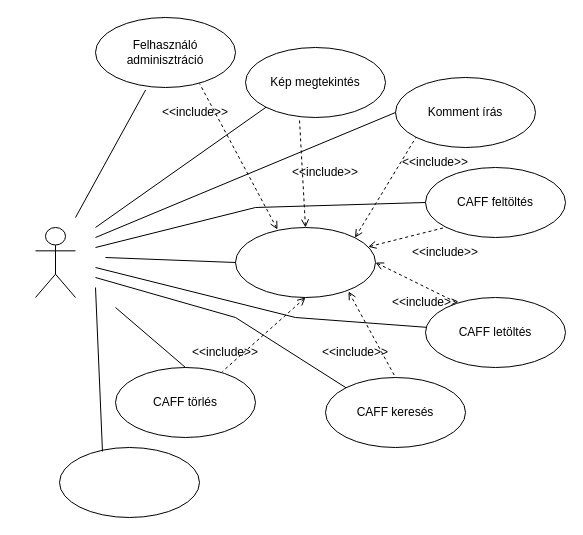
Some shapes in this 583 by 535 pixel diagram are drawn without their labels. Here are the shapes that lost their labels. From the top down, the centre of each, then its label:
the point at 55,262: Adminisztrátor
the point at 305,262: Bejelentkezés
the point at 129,482: Regisztráció
